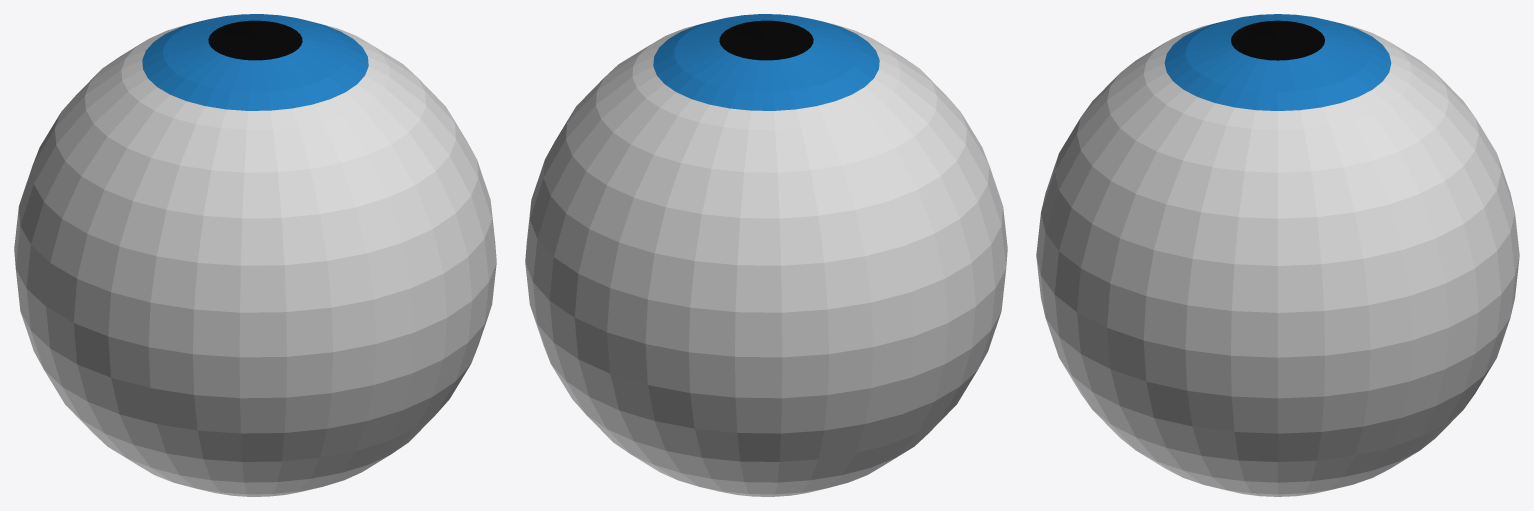
Rendered from eye.obj.
The picture shows the model from 3 angles, left to right: view 1: azimuth 30°, elevation 25°; view 2: azimuth 150°, elevation 25°; view 3: azimuth 270°, elevation 25°; orthographic projection.
Parts seen in each view (by area): view 1: Sphere; view 2: Sphere; view 3: Sphere.
Boxes of the visible parts, box(x1,y1,x2,y2) form: Sphere: box(14, 14, 496, 496); Sphere: box(525, 14, 1007, 496); Sphere: box(1036, 14, 1519, 496).
Bounding box in the file's own units: 2 × 1.98 × 2.
